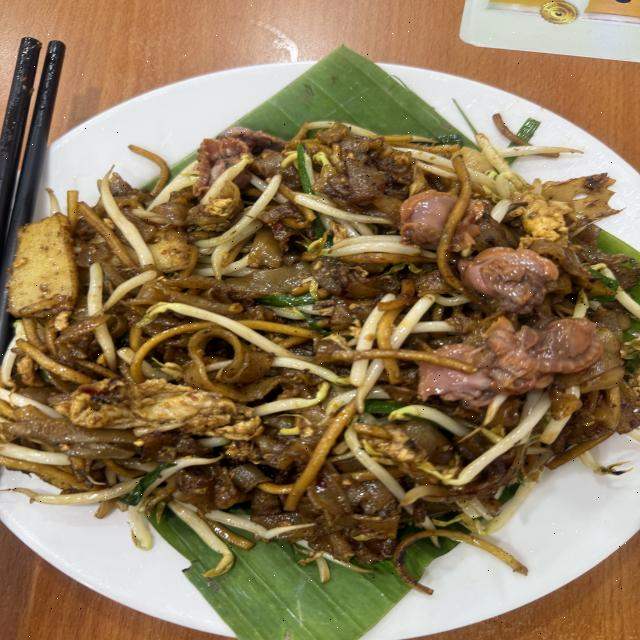Char Kway Teow: (38, 89, 613, 572)
